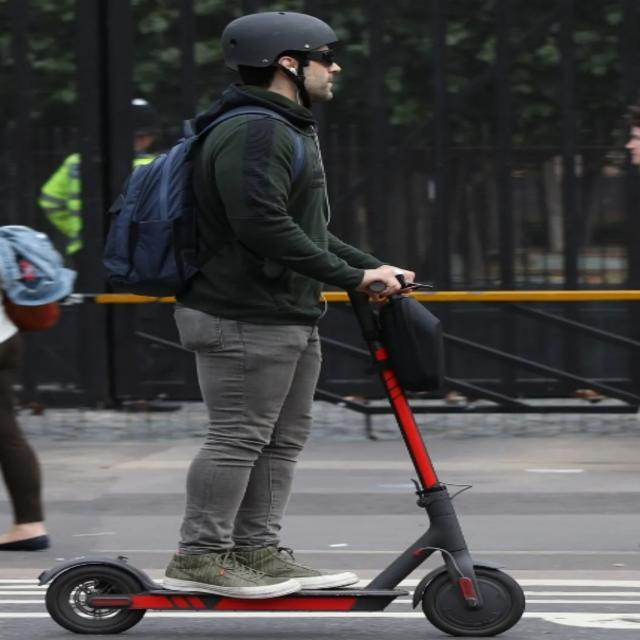Helmet: (214, 0, 346, 119)
